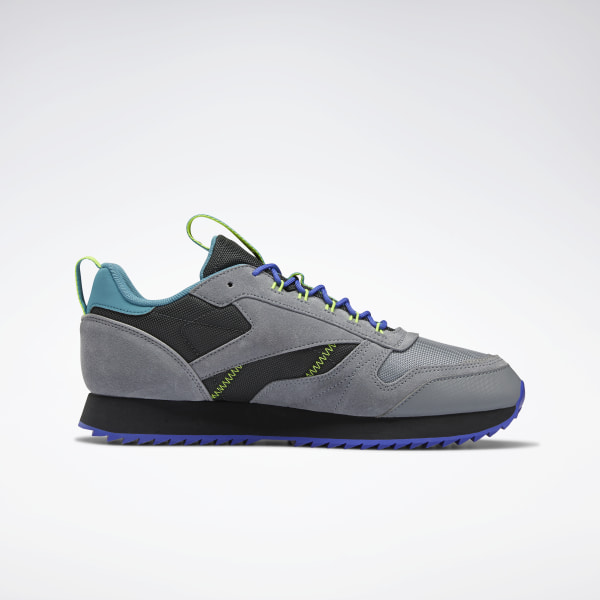shoe: (61, 211, 532, 451)
